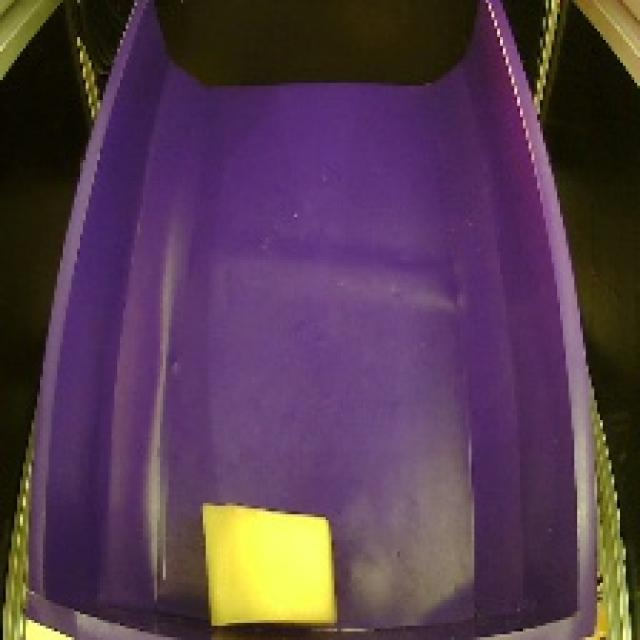potato: (184, 494, 349, 634)
